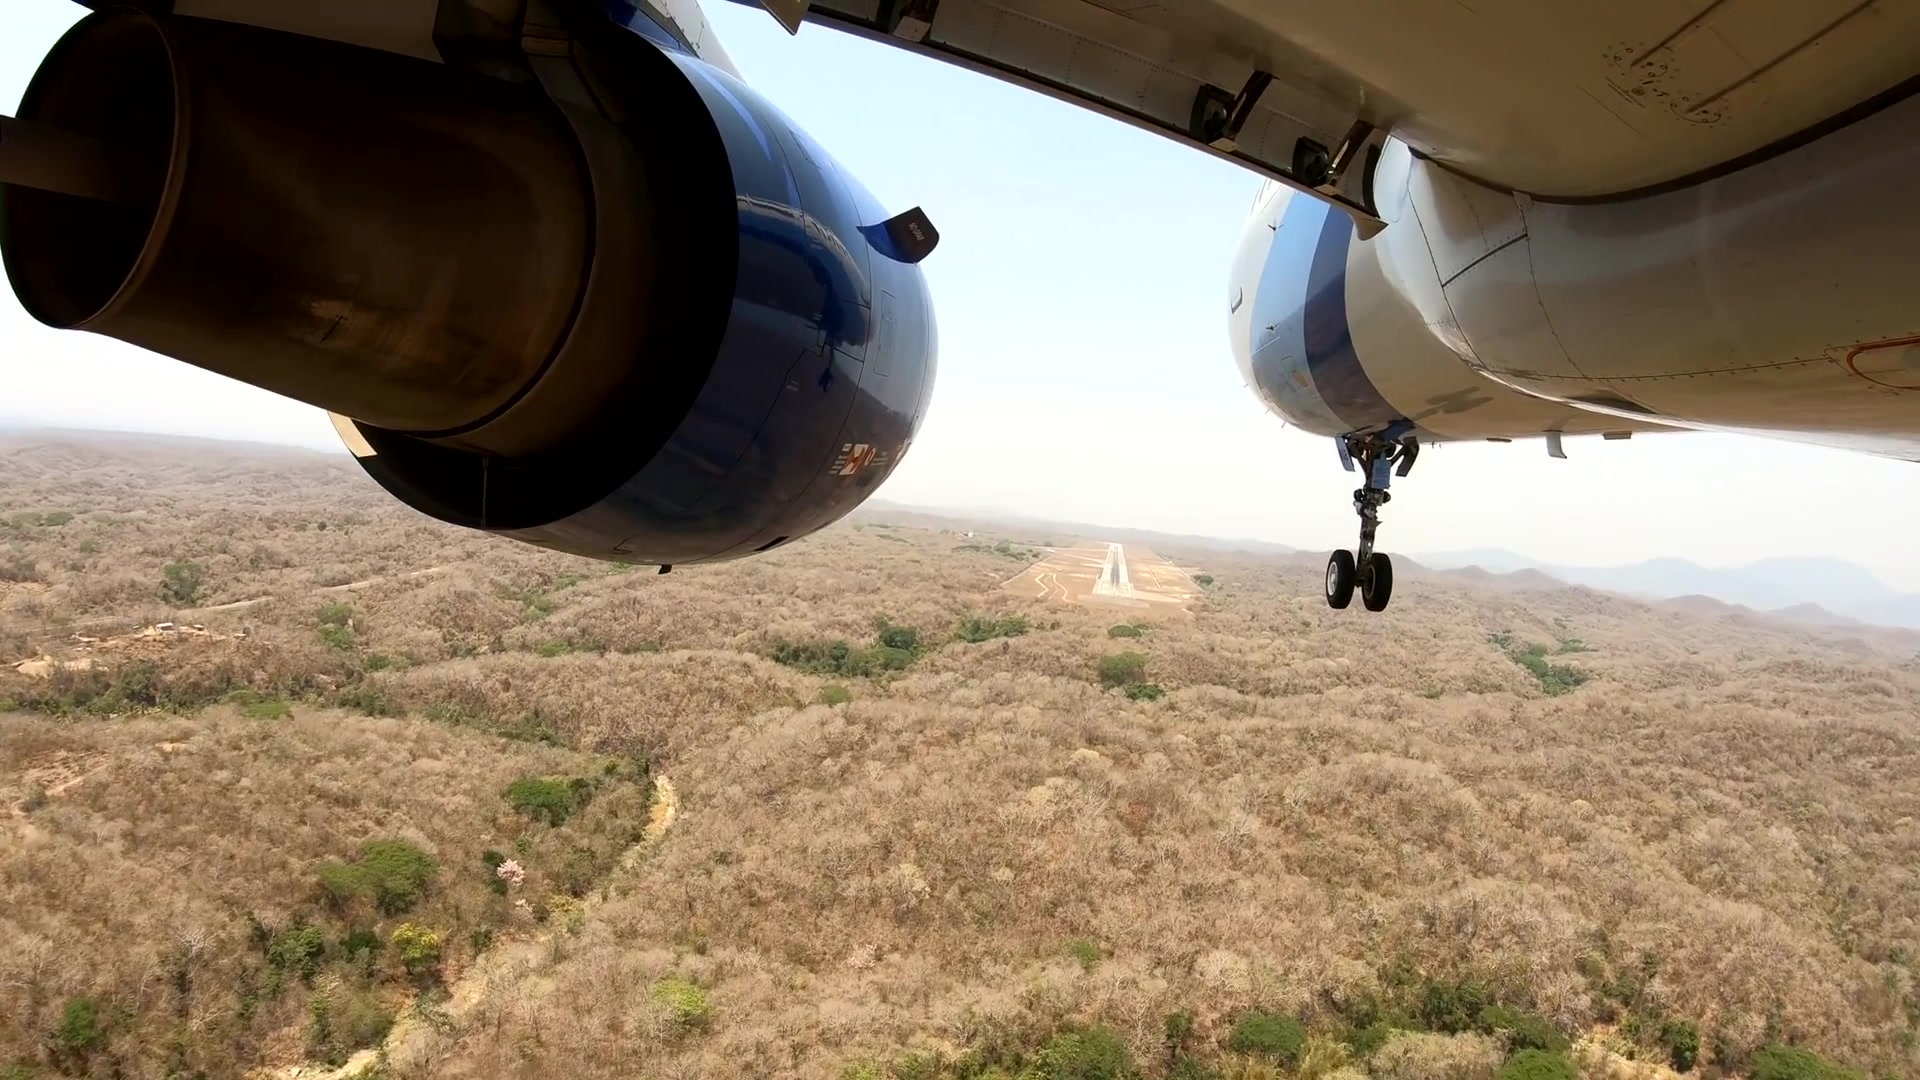runway: (1095, 542, 1133, 599)
